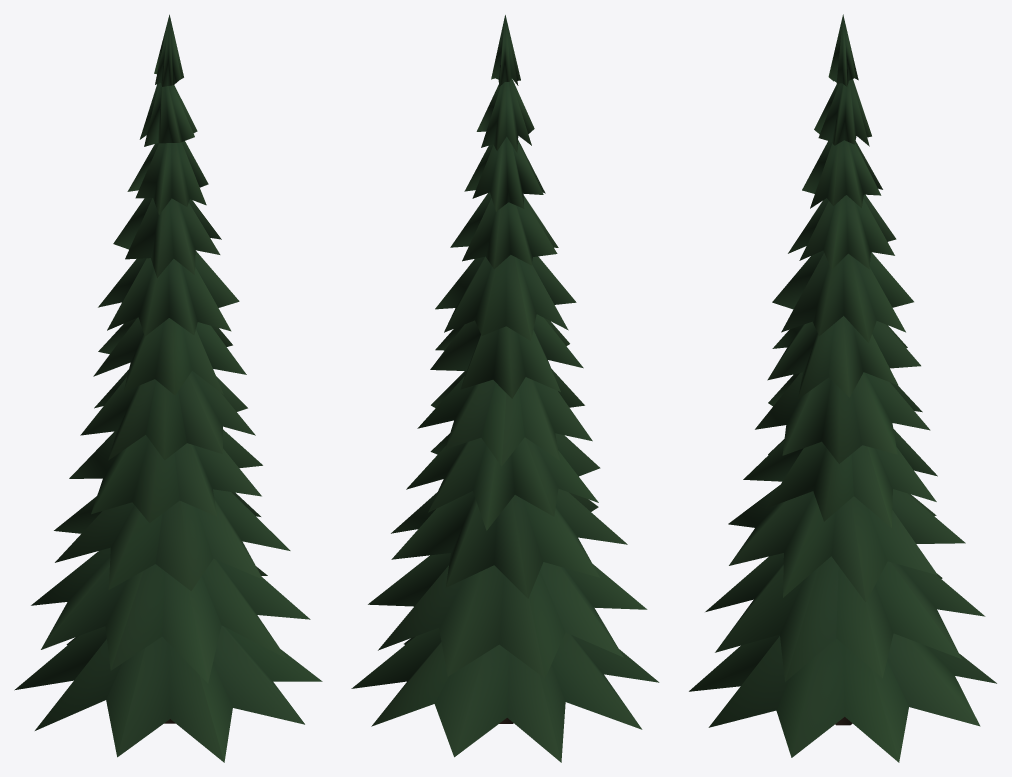
Rendered from env_spruce_b.glb.
The picture shows the model from 3 angles, left to right: view 1: azimuth 30°, elevation 25°; view 2: azimuth 150°, elevation 25°; view 3: azimuth 270°, elevation 25°; orthographic projection.
Visible parts, largest first — view 1: env_spruce_b; view 2: env_spruce_b; view 3: env_spruce_b.
Part boxes in pixels (box(x1,y1,x2,y2)): env_spruce_b: box(14, 14, 322, 762); env_spruce_b: box(351, 15, 659, 762); env_spruce_b: box(689, 14, 996, 762).
Bounding box in the file's own units: 6.93 × 17.67 × 7.02.
